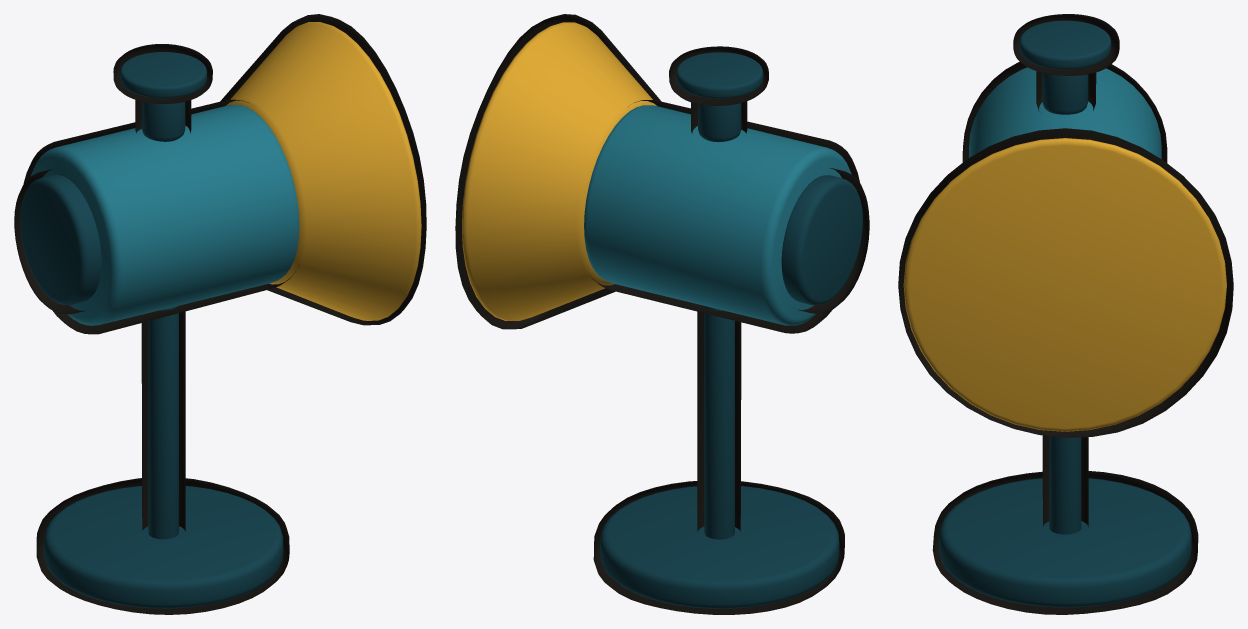
File: lamp.glb
3 renders of one model, left to right at view 1: azimuth 30°, elevation 25°; view 2: azimuth 150°, elevation 25°; view 3: azimuth 270°, elevation 25°, orthographic. The views are drawn at different scales.
Parts seen in each view (by area): view 1: Lamp, Lamp_outline; view 2: Lamp, Lamp_outline; view 3: Lamp, Lamp_outline.
Part boxes in pixels (bbox=[...]): Lamp: bbox=[20, 22, 421, 608]; Lamp_outline: bbox=[14, 14, 426, 614]; Lamp: bbox=[462, 22, 862, 608]; Lamp_outline: bbox=[455, 14, 869, 614]; Lamp: bbox=[903, 20, 1226, 607]; Lamp_outline: bbox=[898, 14, 1233, 614].
Bounding box in the file's own units: 1.65 × 2.56 × 1.46.
